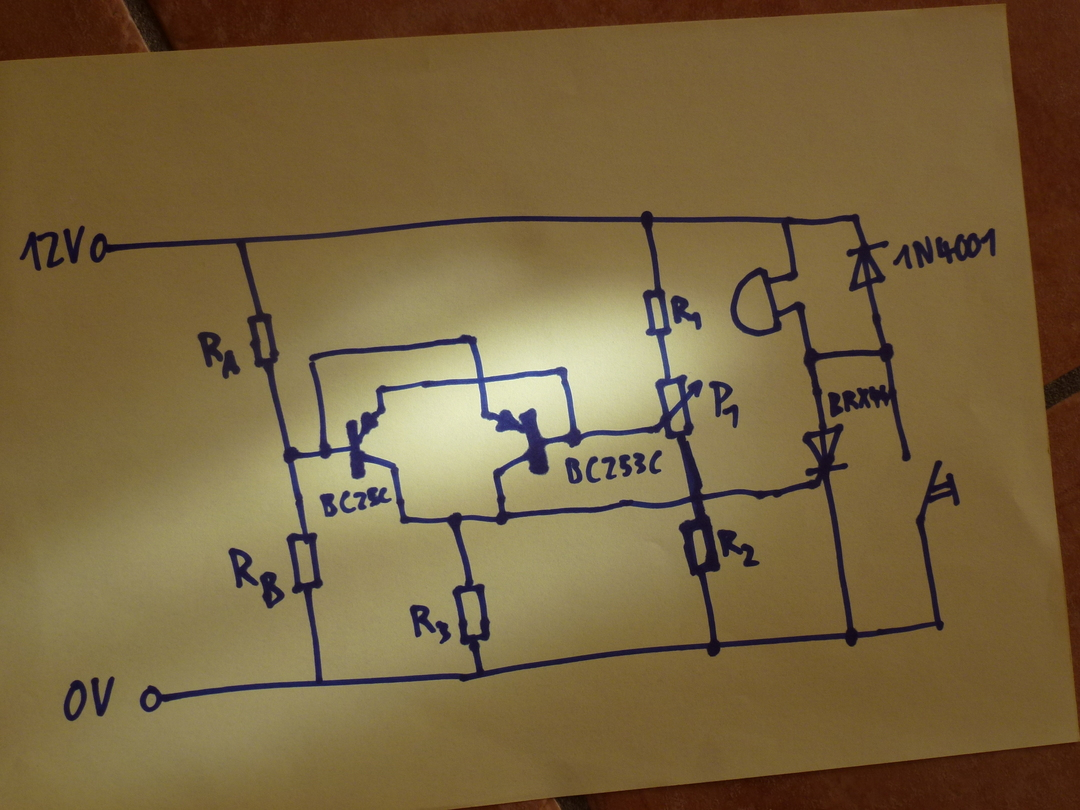crossover: (685, 491, 709, 506), (472, 374, 492, 389)
diode: (844, 239, 890, 292)
junction: (801, 347, 822, 370), (636, 208, 657, 231), (876, 340, 896, 364), (842, 625, 862, 649), (281, 445, 303, 466), (563, 428, 584, 448), (492, 508, 512, 527), (316, 440, 334, 461), (705, 638, 723, 659), (445, 510, 464, 529), (231, 233, 252, 249), (778, 213, 796, 231), (465, 330, 481, 348), (847, 210, 865, 226), (396, 513, 413, 529), (555, 362, 571, 379), (792, 297, 808, 314), (312, 676, 328, 692), (373, 382, 389, 398), (305, 351, 320, 367), (931, 617, 946, 633), (472, 667, 488, 682), (787, 267, 801, 282)
lamp: (728, 265, 784, 339)
resistor: (676, 513, 720, 578), (452, 581, 492, 647), (285, 531, 324, 595), (246, 311, 281, 369), (641, 287, 673, 338)
resistor.adjustable: (654, 373, 704, 440)
switch: (900, 455, 962, 522)
terminal: (88, 231, 113, 266), (138, 683, 165, 714)
text: (892, 226, 997, 271), (227, 546, 286, 610), (564, 449, 664, 485), (19, 224, 86, 272), (62, 675, 116, 722), (318, 485, 393, 518), (196, 330, 242, 381), (827, 384, 891, 419), (408, 603, 453, 645), (717, 528, 762, 568), (708, 380, 741, 430), (670, 294, 703, 331)
thyristor: (800, 422, 850, 491)
transistor: (479, 407, 551, 477), (345, 405, 401, 480)
